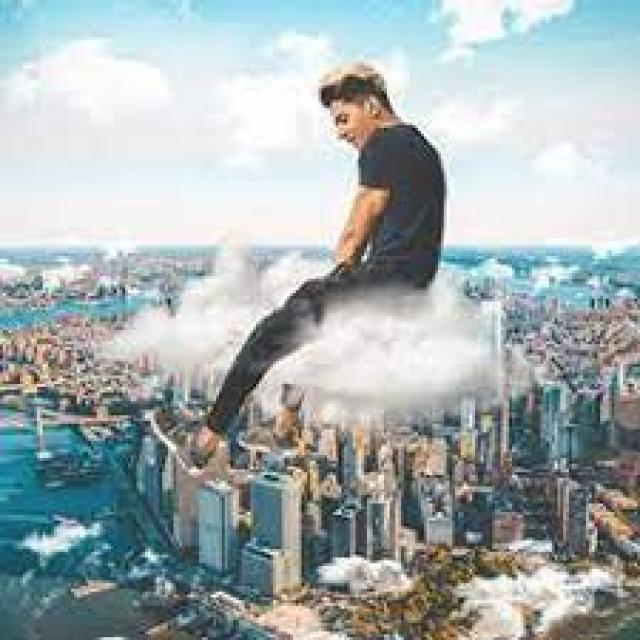Edited images: (135, 28, 495, 530)
